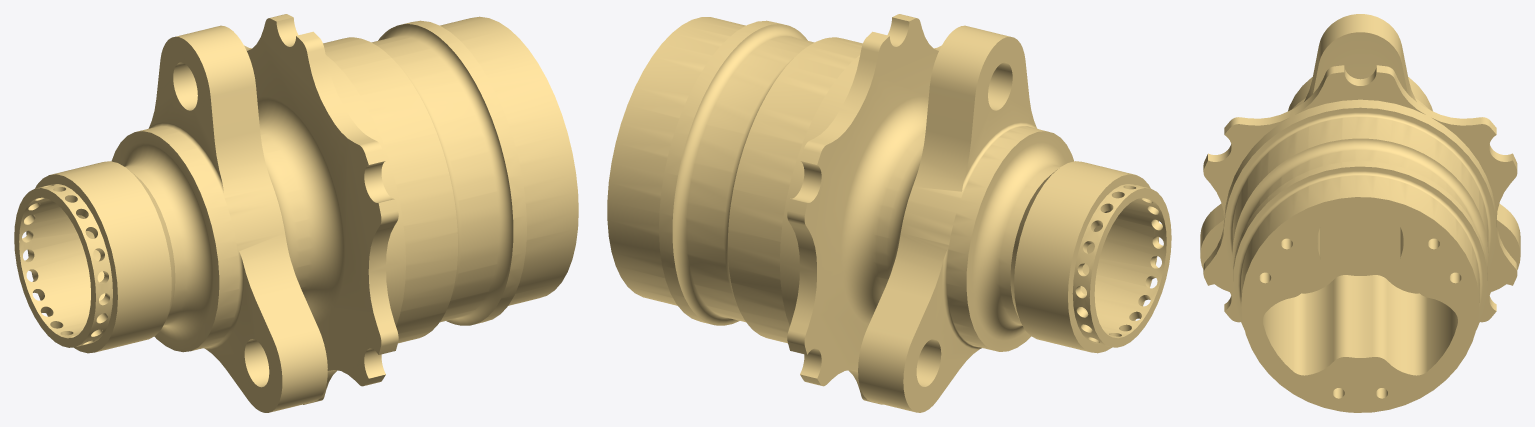
The model's file is hub2s.glb.
3 renders of one model, left to right at view 1: azimuth 30°, elevation 25°; view 2: azimuth 150°, elevation 25°; view 3: azimuth 270°, elevation 25°, orthographic. The views are drawn at different scales.
Parts seen in each view (by area): view 1: rear hub shiny; view 2: rear hub shiny; view 3: rear hub shiny.
Part boxes in pixels (box(x1,y1,x2,y2)): rear hub shiny: box(14, 14, 578, 412); rear hub shiny: box(607, 14, 1171, 412); rear hub shiny: box(1200, 14, 1520, 412).
Size of the model in its own units: 1.26 by 1.01 by 0.9404.
Materials: 1 (1 with a texture image).
